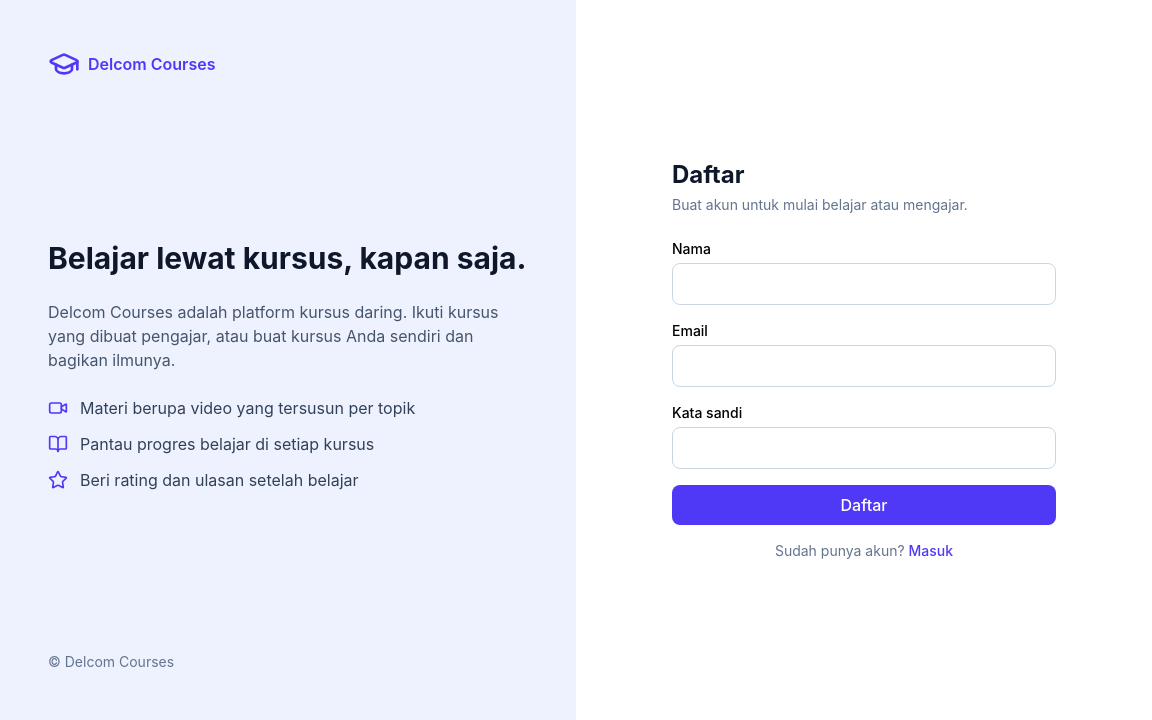
Scenario: RegisterPage › menolak isian kosong
The width and height of the screenshot is (1152, 720).
Click the button "Daftar". click: (864, 505)
box: [672,485,1056,525]
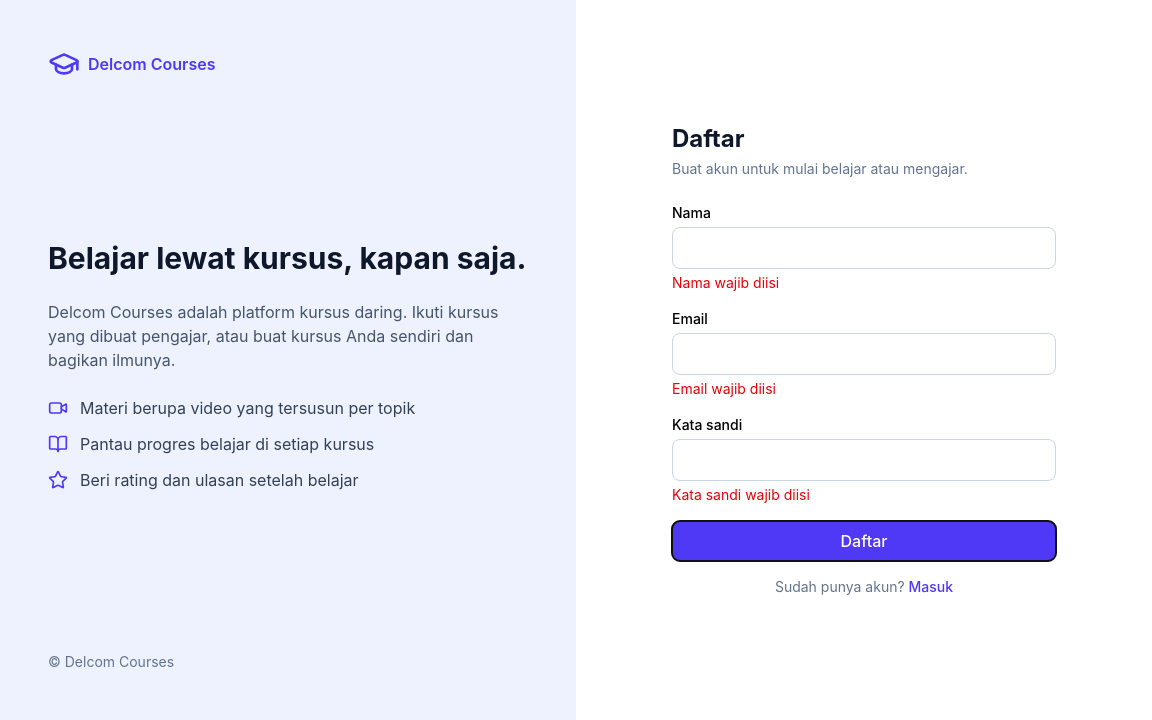
Now the text "Nama wajib diisi" is shown, box [672,274,779,291]
Now the text "Email wajib diisi" is shown, box [672,380,776,397]
Now the text "Kata sandi wajib diisi" is shown, box [672,486,810,503]
